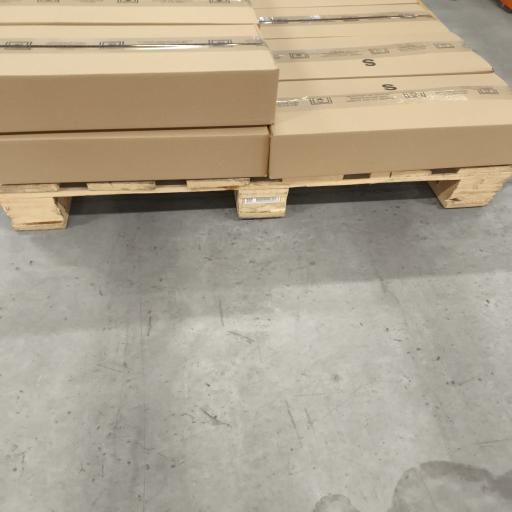pallet: (0, 166, 511, 230)
